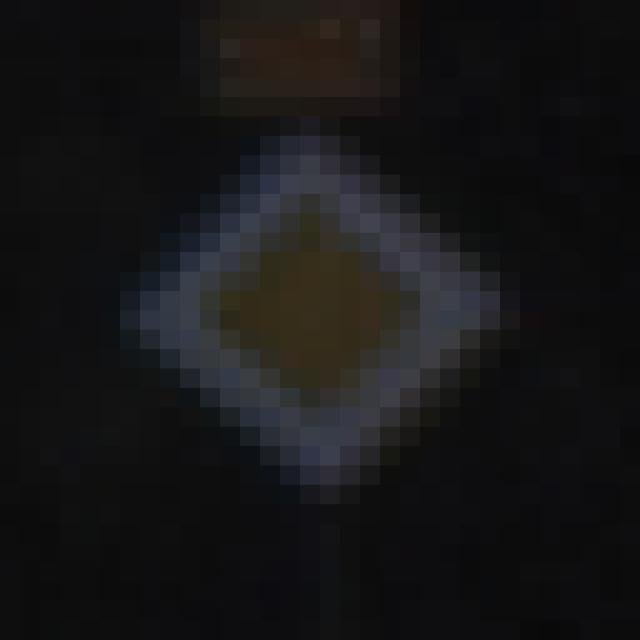Main Road: (101, 98, 541, 544)
